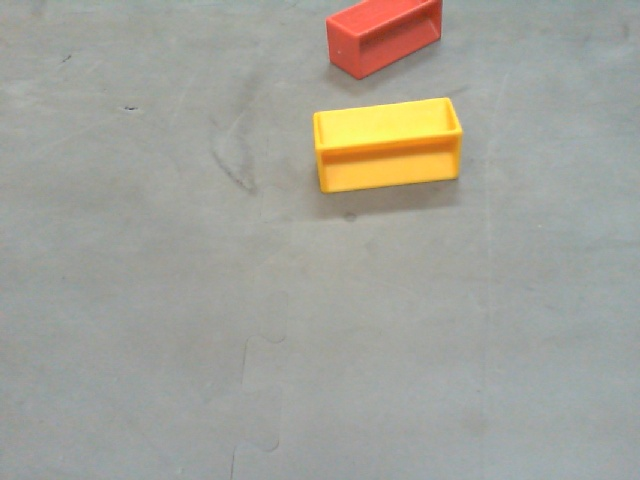RedSample: (323, 1, 447, 82)
YellowSample: (311, 97, 464, 192)
